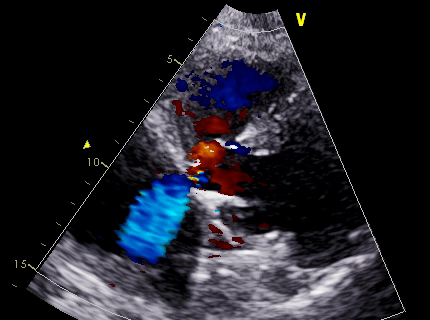TR: (147, 148, 215, 237)
